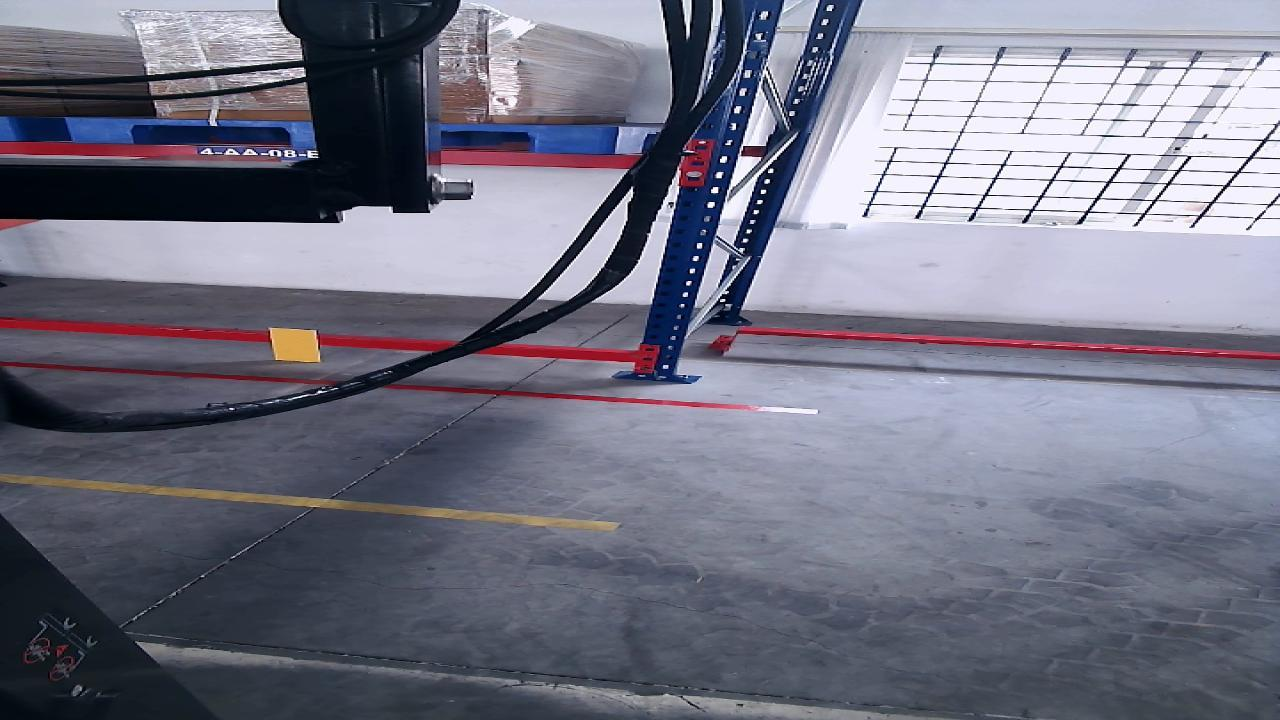h_rack: (0, 318, 634, 361), (4, 142, 636, 169)
orange_strip: (265, 327, 320, 363)
red_line: (0, 361, 814, 414)
small_pallet: (68, 120, 614, 154)
yellow_line: (4, 474, 617, 529)
